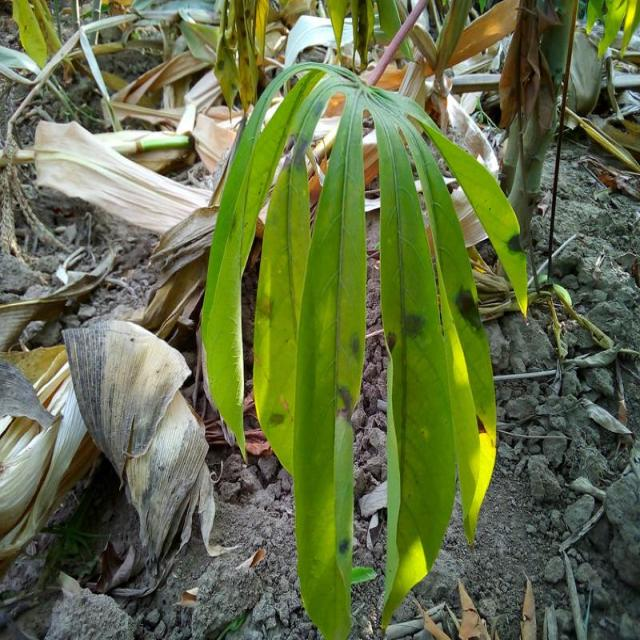cassava leaf: (199, 59, 528, 636), (290, 72, 368, 639)
